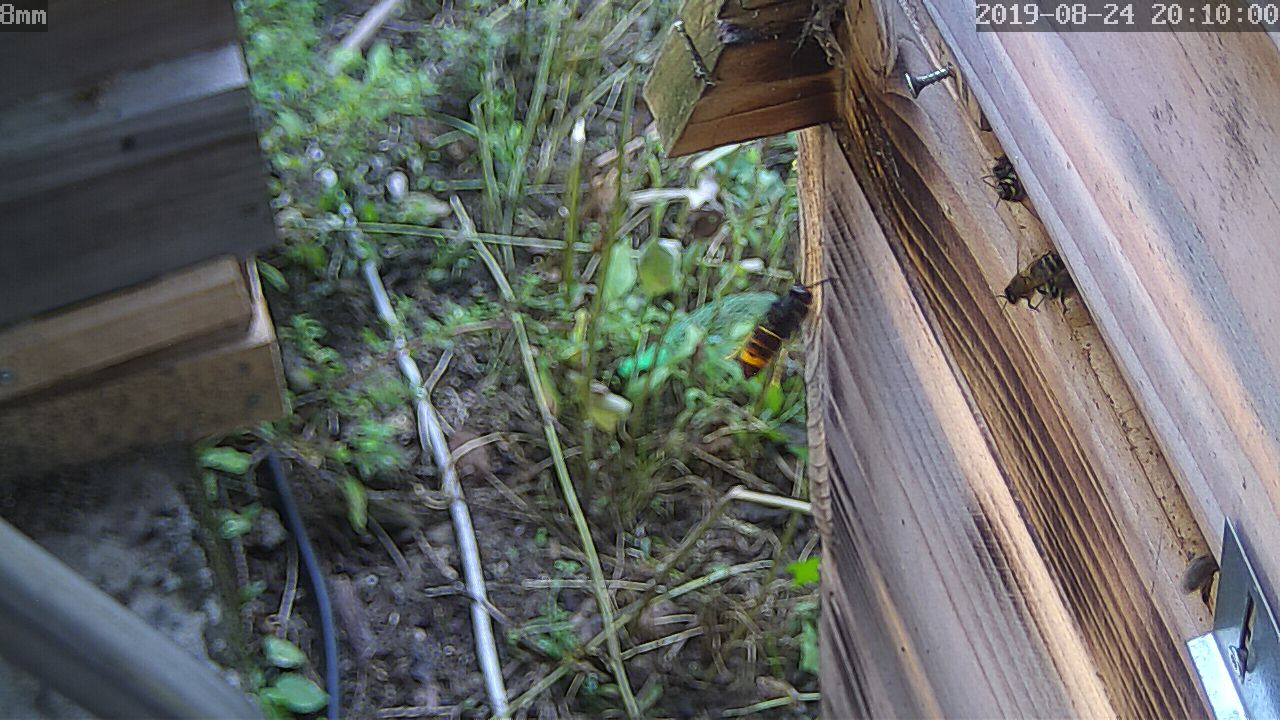bee: (1000, 249, 1069, 312), (981, 144, 1028, 214)
hornet: (736, 278, 810, 395)
